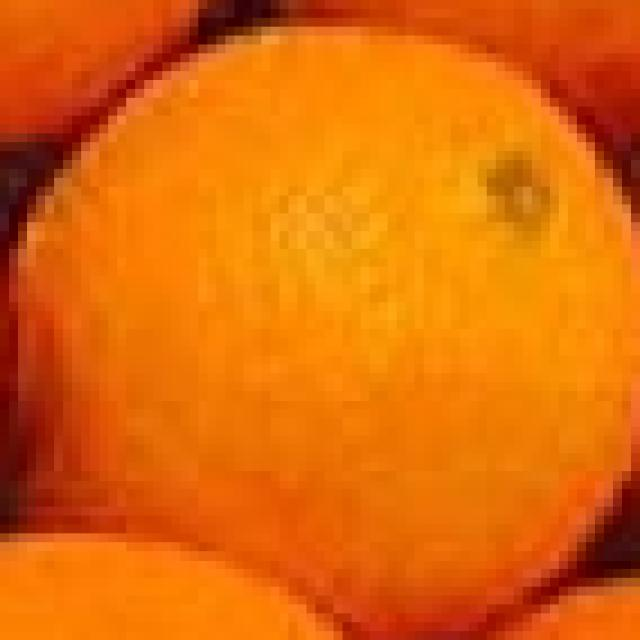Lime: (9, 0, 640, 640)
